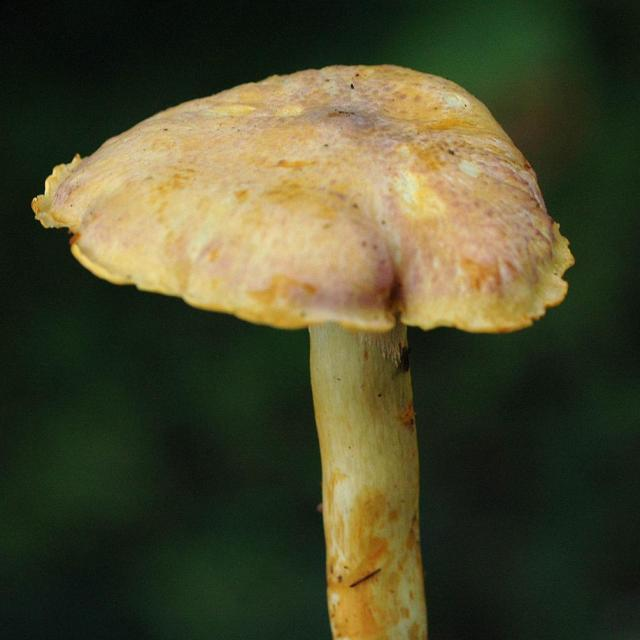Cantharellus cibarius: (35, 67, 574, 640)
